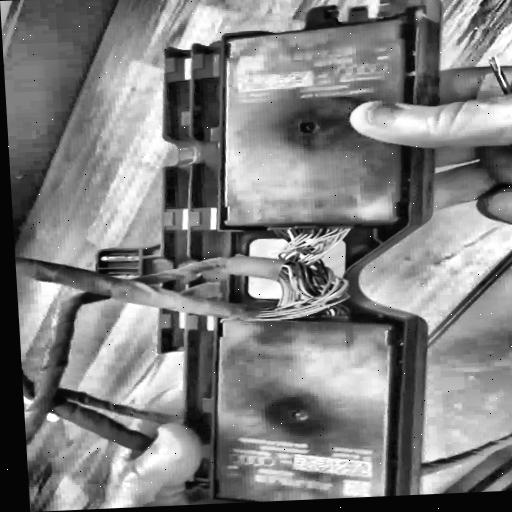low_volt_cable: (232, 224, 360, 322)
